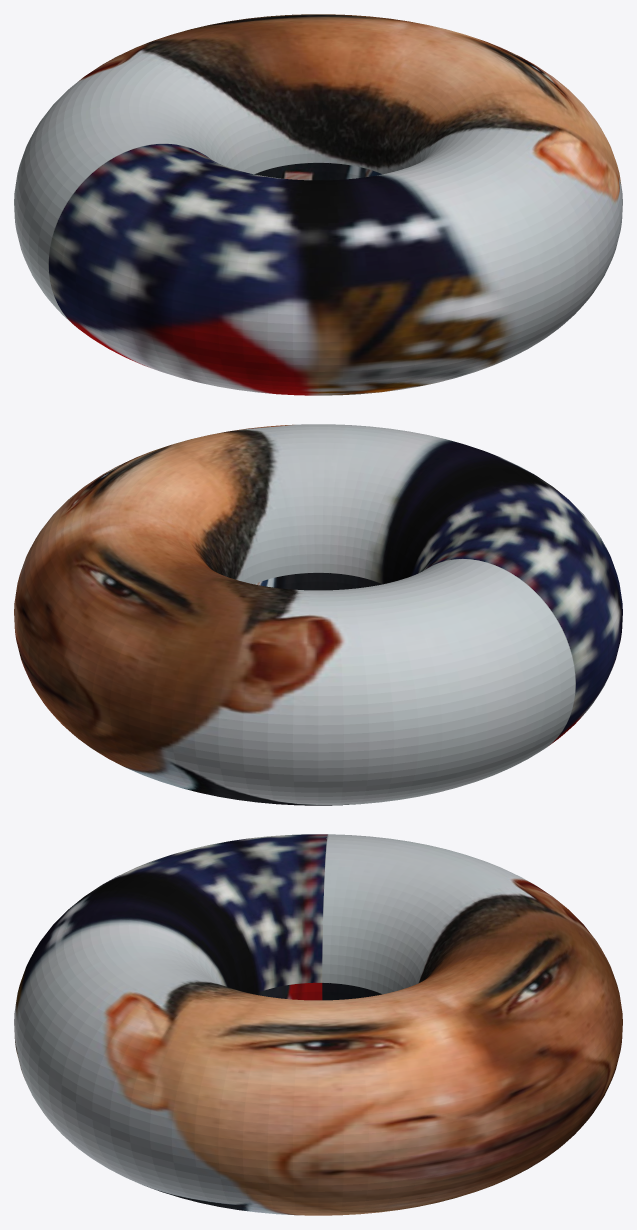
File: obamna.glb
The picture shows the model from 3 angles, top to bottom: view 1: azimuth 30°, elevation 25°; view 2: azimuth 150°, elevation 25°; view 3: azimuth 270°, elevation 25°; orthographic projection.
Parts seen in each view (by area): view 1: Torus; view 2: Torus; view 3: Torus.
Part boxes in pixels (left/top/right/bottom): Torus: left=14, top=14, right=622, bottom=395; Torus: left=14, top=424, right=622, bottom=805; Torus: left=14, top=834, right=622, bottom=1215.
Bounding box in the file's own units: 1.98 × 0.6998 × 1.98.
Materials: 1 (1 with a texture image).
